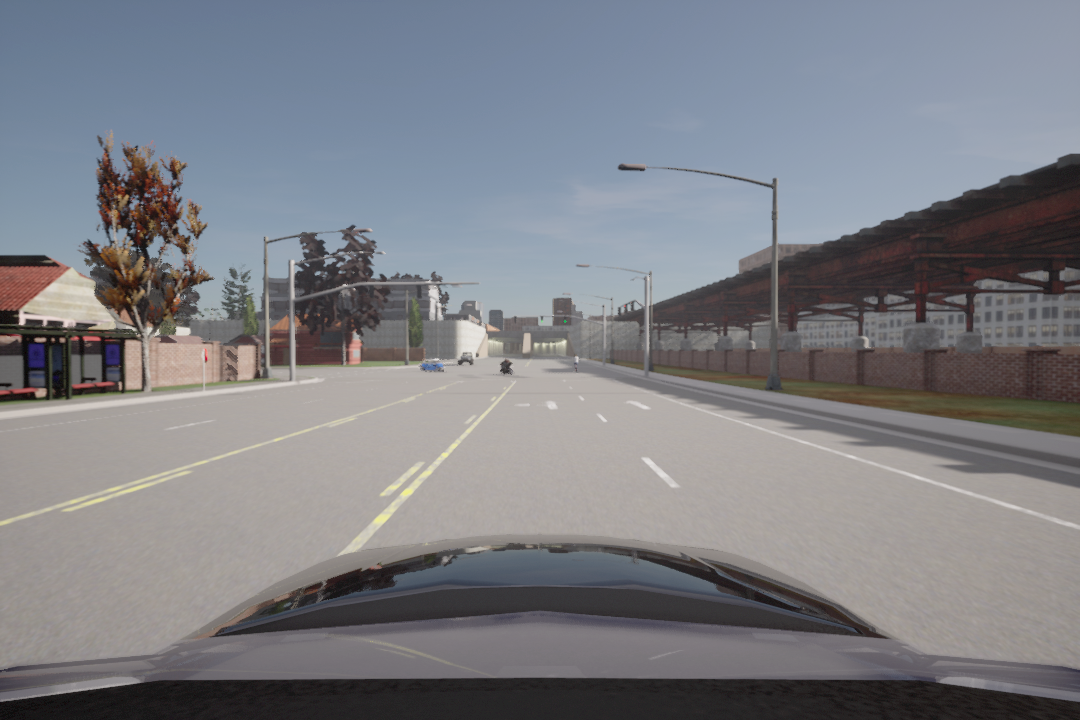RoadSign_forward: (625, 397, 651, 417)
RoadSign_forward_left: (513, 397, 561, 414)
